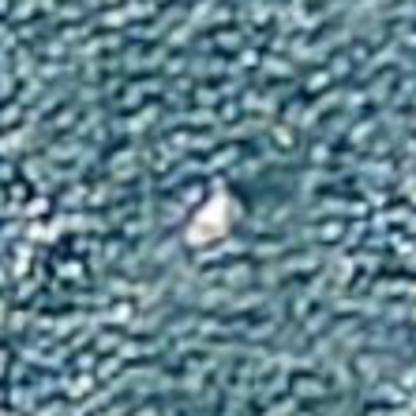ship: (176, 168, 258, 255)
